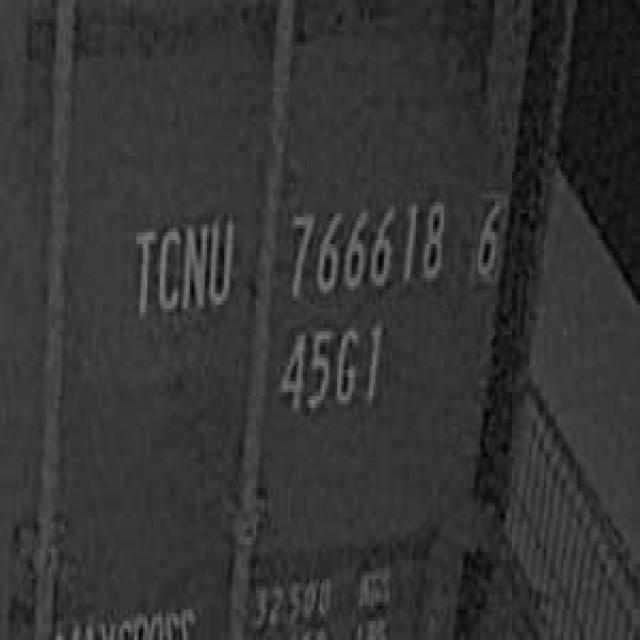dv: (469, 183, 508, 289)
owner: (128, 205, 235, 328)
serial: (282, 187, 448, 301)
size: (275, 312, 388, 423)
